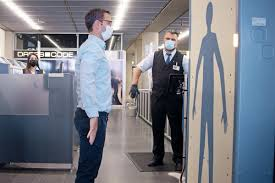Good: (73, 7, 182, 183), (16, 7, 113, 75)
